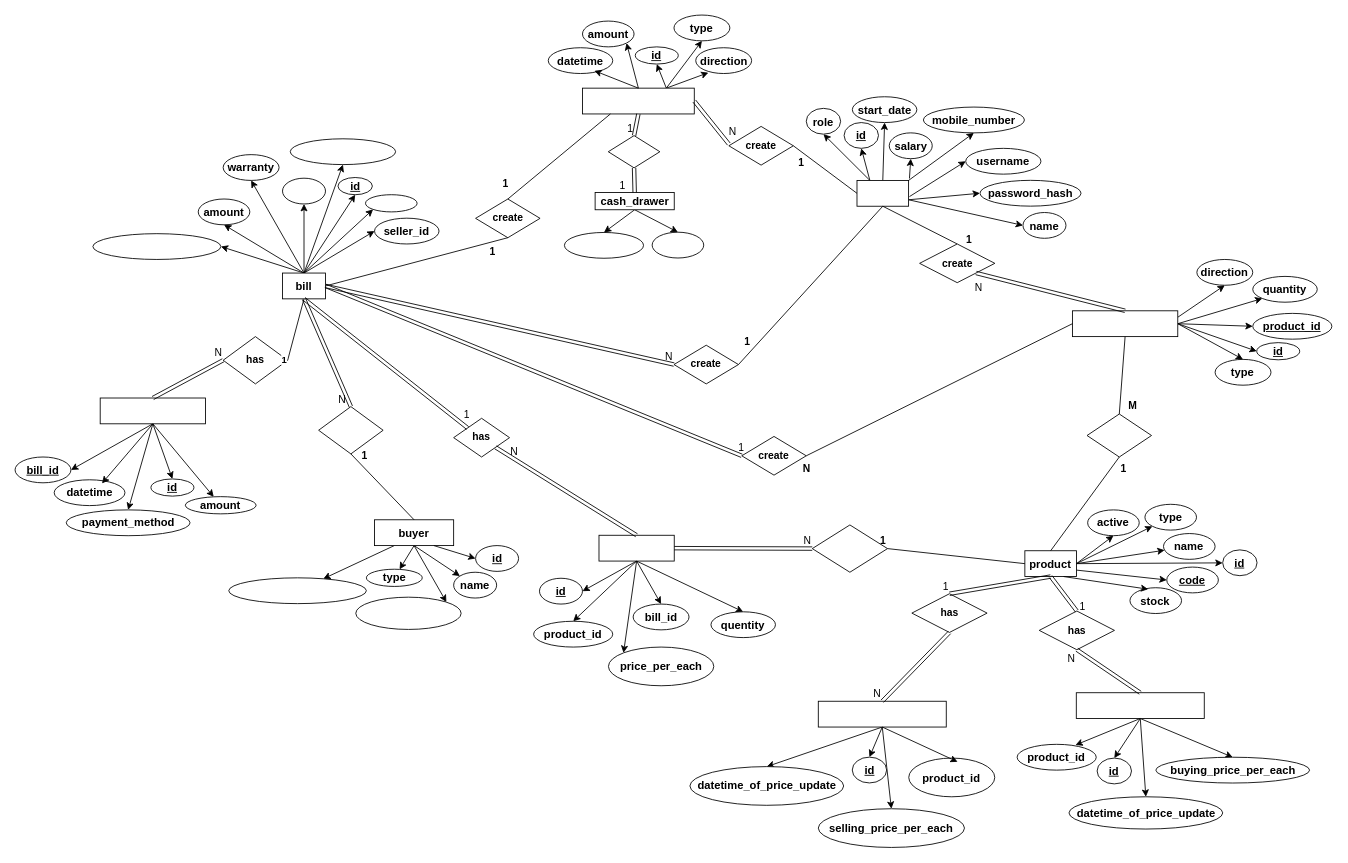
Some shapes in this 1348 by 863 pixel diagram are drawn without their labels. Here are the shapes that lost their labels. From the top down, the box of each, then its label:
(582, 87, 694, 114): cash_movement
(289, 138, 396, 165): issue_datetime
(607, 135, 660, 168): update
(282, 177, 326, 204): notes
(365, 194, 417, 212): status
(856, 180, 909, 206): user
(92, 233, 221, 259): discount_amount
(564, 232, 644, 258): last_update
(651, 231, 704, 258): balance
(1072, 310, 1178, 337): stock_movement
(99, 397, 206, 424): payment_history
(318, 406, 383, 454): pay
(1086, 413, 1152, 457): modify
(598, 534, 674, 561): sold_item
(811, 524, 888, 572): is_a
(228, 577, 366, 604): remaining_amout_due
(355, 596, 461, 629): phone_number
(817, 700, 946, 727): selling_price_history
(1075, 692, 1204, 719): buying_price_history
